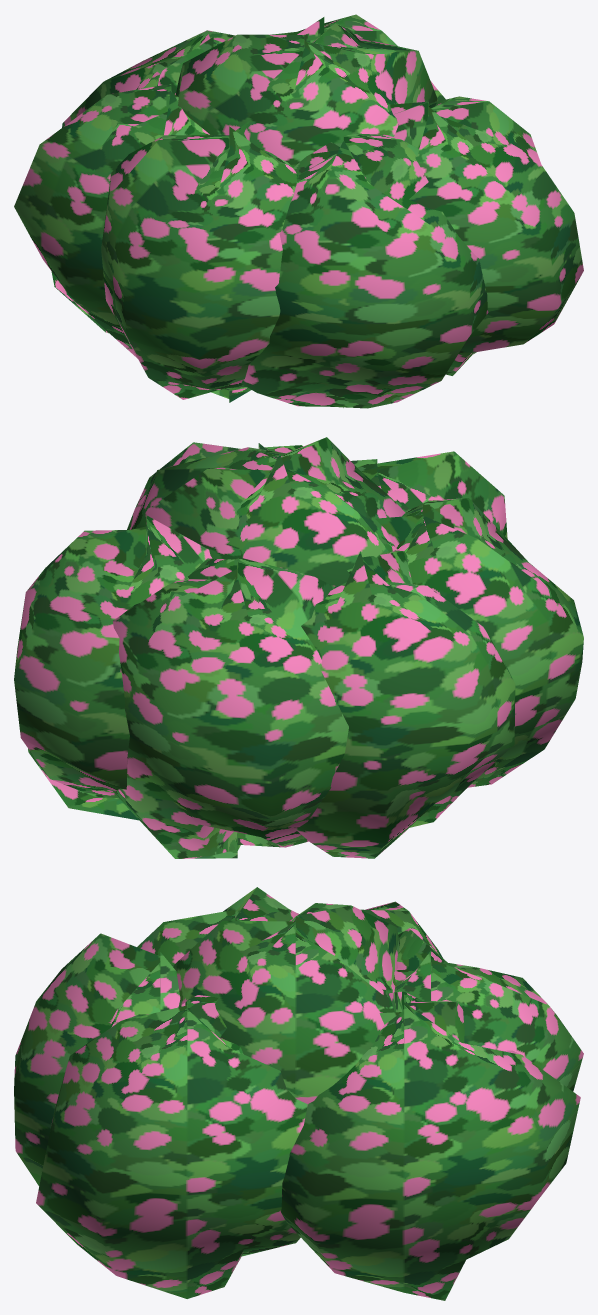
File: nat_flowering_bush.glb
The picture shows the model from 3 angles, top to bottom: view 1: azimuth 30°, elevation 25°; view 2: azimuth 150°, elevation 25°; view 3: azimuth 270°, elevation 25°; orthographic projection. The views are drawn at different scales.
Visible parts, largest first — view 1: foliage; view 2: foliage; view 3: foliage.
Boxes of the visible parts, box(x1,y1,x2,y2) form: foliage: box(14, 14, 583, 408); foliage: box(14, 437, 583, 858); foliage: box(14, 887, 583, 1300).
Bounding box in the file's own units: 1.79 × 1.3 × 1.97.
1 material, 1 textured.
